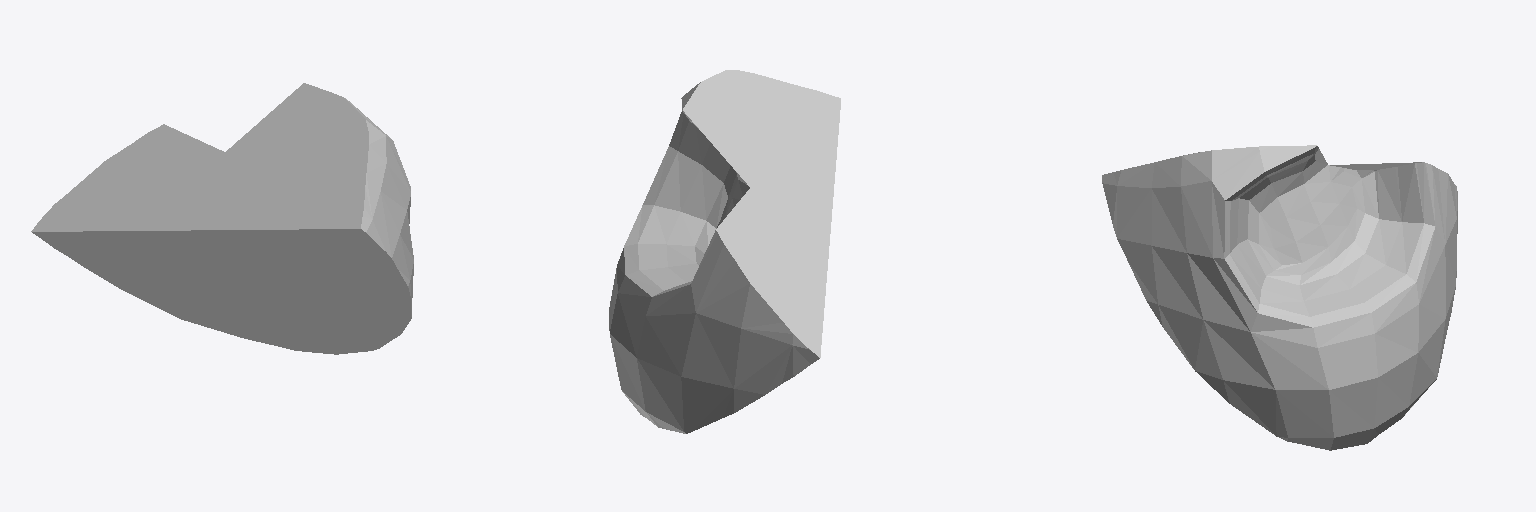
The model's file is FracturePartFracture_003.obj.
The picture shows the model from 3 angles: view 1: azimuth 30°, elevation 25°; view 2: azimuth 150°, elevation 25°; view 3: azimuth 270°, elevation 25°; orthographic projection.
Parts seen in each view (by area): view 1: Fracture.003; view 2: Fracture.003; view 3: Fracture.003.
Boxes of the visible parts, x1=… form: Fracture.003: x1=31, y1=83, x2=413, y2=354; Fracture.003: x1=609, y1=70, x2=840, y2=433; Fracture.003: x1=1102, y1=145, x2=1457, y2=450.
Bounding box in the file's own units: 1.41 × 1.43 × 1.57.